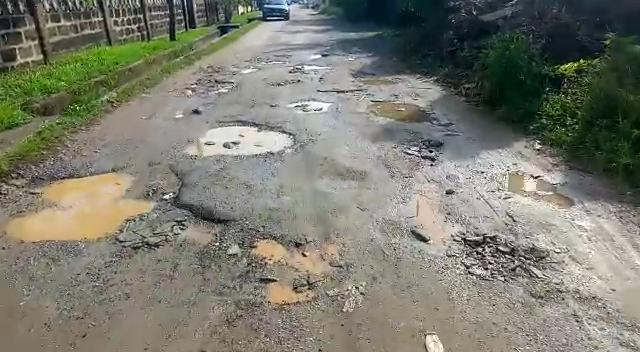pothole: (3, 164, 239, 248), (228, 233, 353, 309), (453, 233, 557, 285), (181, 117, 303, 158), (486, 167, 577, 213), (367, 99, 436, 126), (174, 74, 235, 101), (391, 137, 441, 166), (288, 99, 331, 113), (312, 86, 365, 95)
